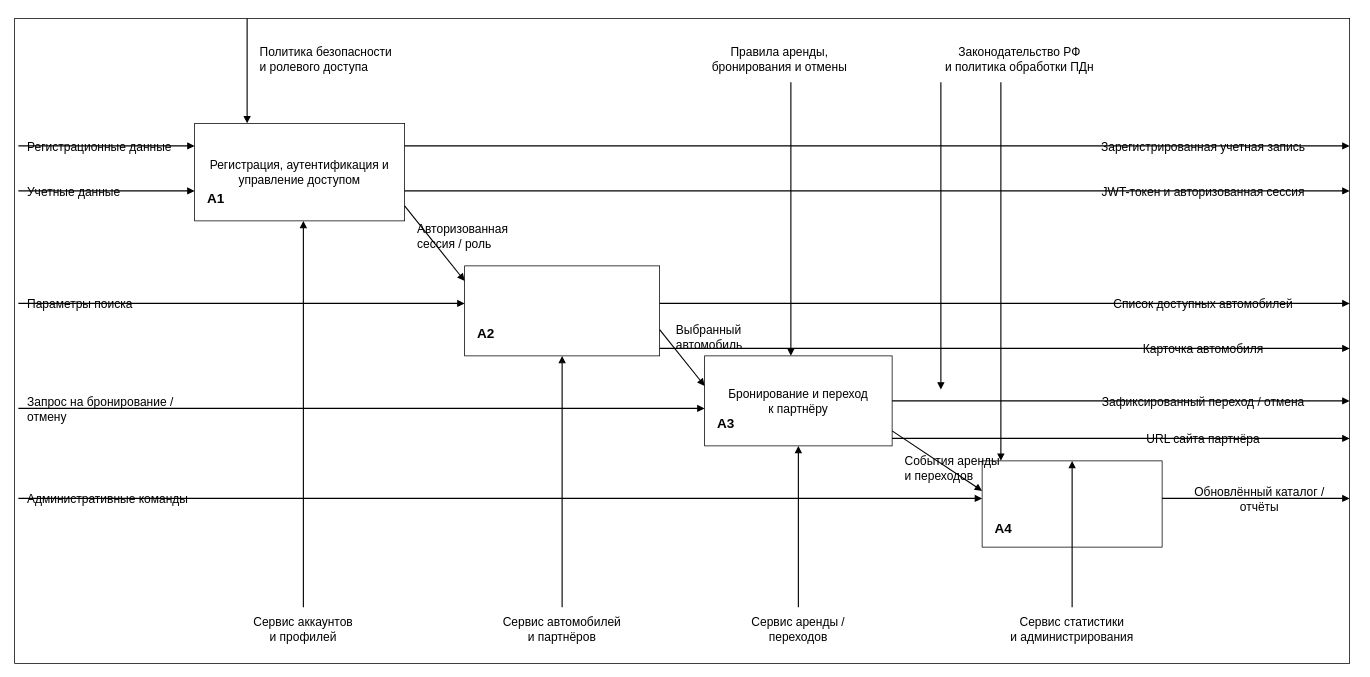
Image size: 1370x677. Some labels were removed from this diagram. The shapes that lost their labels are listed below. From the top down, each one's box as (x1, y1, x2, y2) in pixels, then its label:
(464, 265, 660, 356): Поиск и просмотр доступных автомобилей
(981, 460, 1162, 547): Администрирование и аналитика
